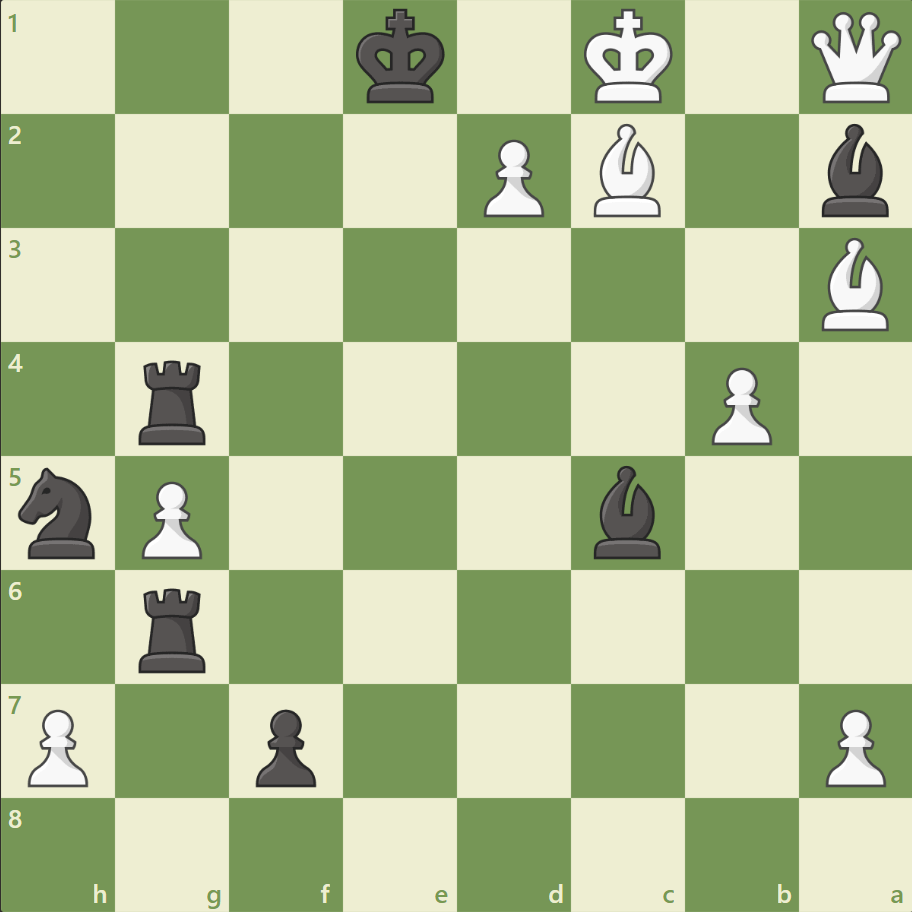B: (812, 233, 896, 336), (585, 120, 669, 222)
K: (579, 4, 679, 112)
P: (20, 700, 95, 791), (133, 473, 208, 564), (701, 359, 776, 450), (474, 132, 549, 223), (815, 700, 889, 791)
Q: (805, 9, 904, 108)
b: (585, 460, 669, 563), (812, 120, 896, 222)
k: (351, 4, 451, 112)
n: (11, 461, 108, 564)
p: (247, 700, 322, 791)
r: (133, 579, 215, 676), (133, 352, 215, 449)
